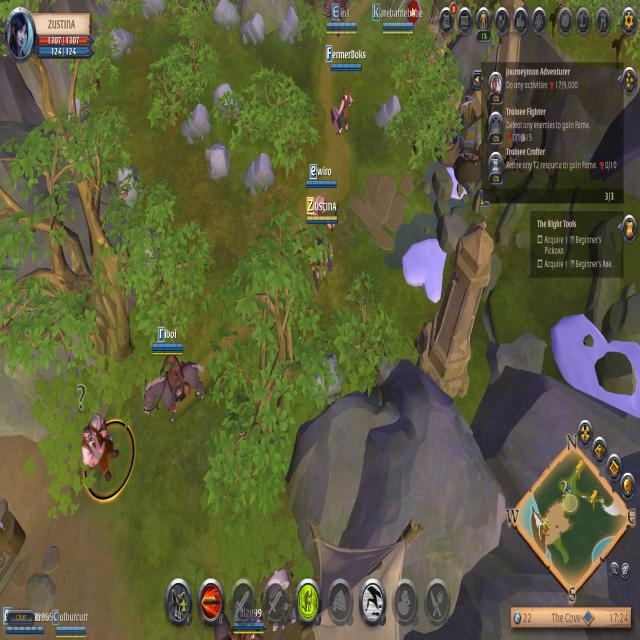stone: (241, 149, 280, 200), (110, 168, 146, 214), (374, 96, 408, 142), (179, 101, 214, 145), (205, 142, 238, 188), (212, 80, 244, 120), (104, 28, 138, 61), (278, 7, 303, 47), (243, 9, 266, 51), (211, 2, 240, 30)
